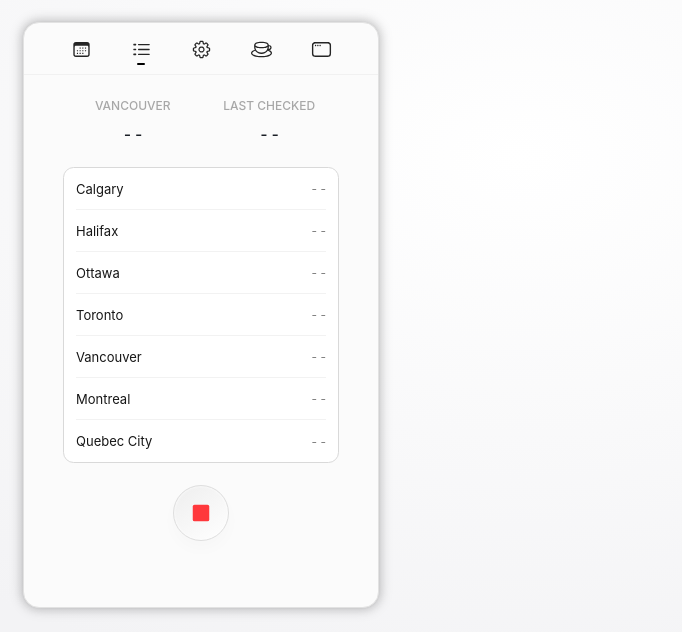
Test: paid/unpaid workflow retention › locks Settings while another tab owns a running worker workflow
Expected: the button named "Stop" is shown, [173, 485, 229, 541]
Click the button named "Booking" at (81, 49), box [63, 31, 99, 67]
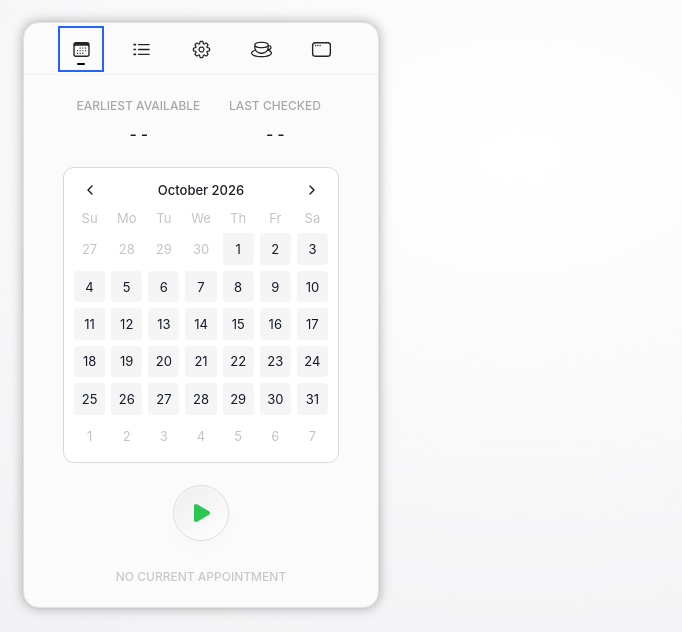
Click the button named "Settings" at (201, 49), box [183, 31, 219, 67]
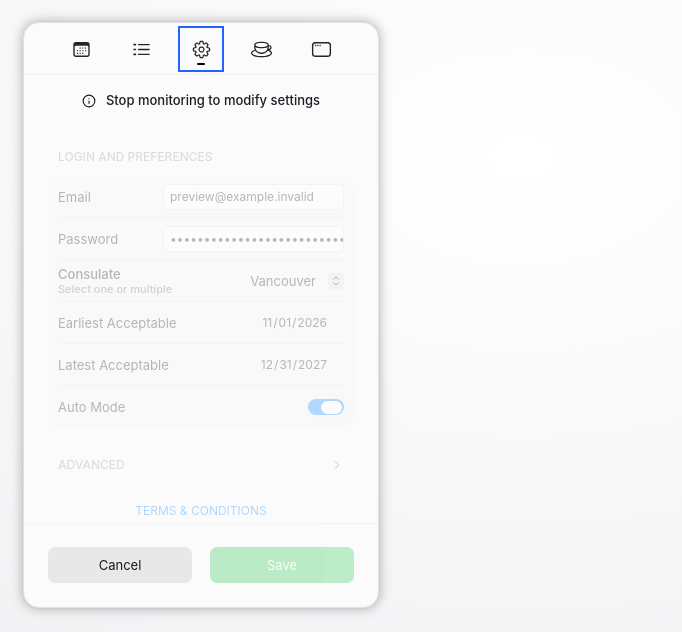
Result: the element showing "Stop monitoring to modify settings" is shown at [82, 92, 320, 108]
Result: the button "Save" is disabled at [210, 547, 354, 583]
